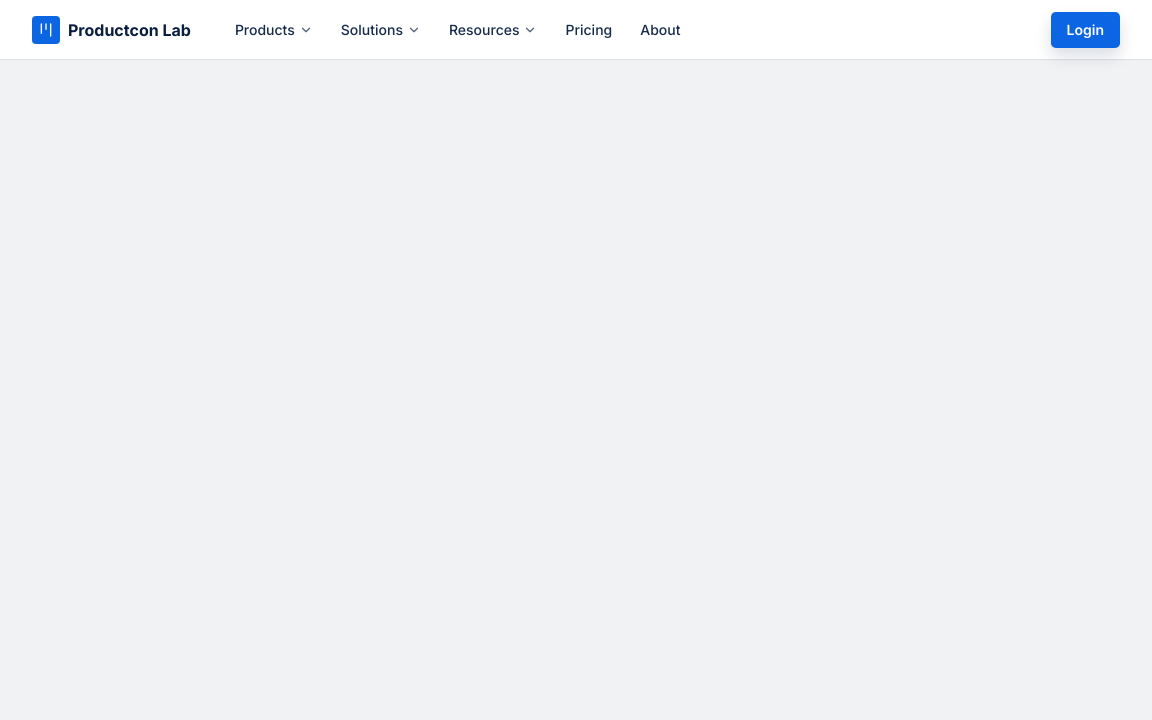
Test: LandingNav › closes dropdown when clicking outside
Click the button "Products" at (274, 30), box [223,12,325,48]
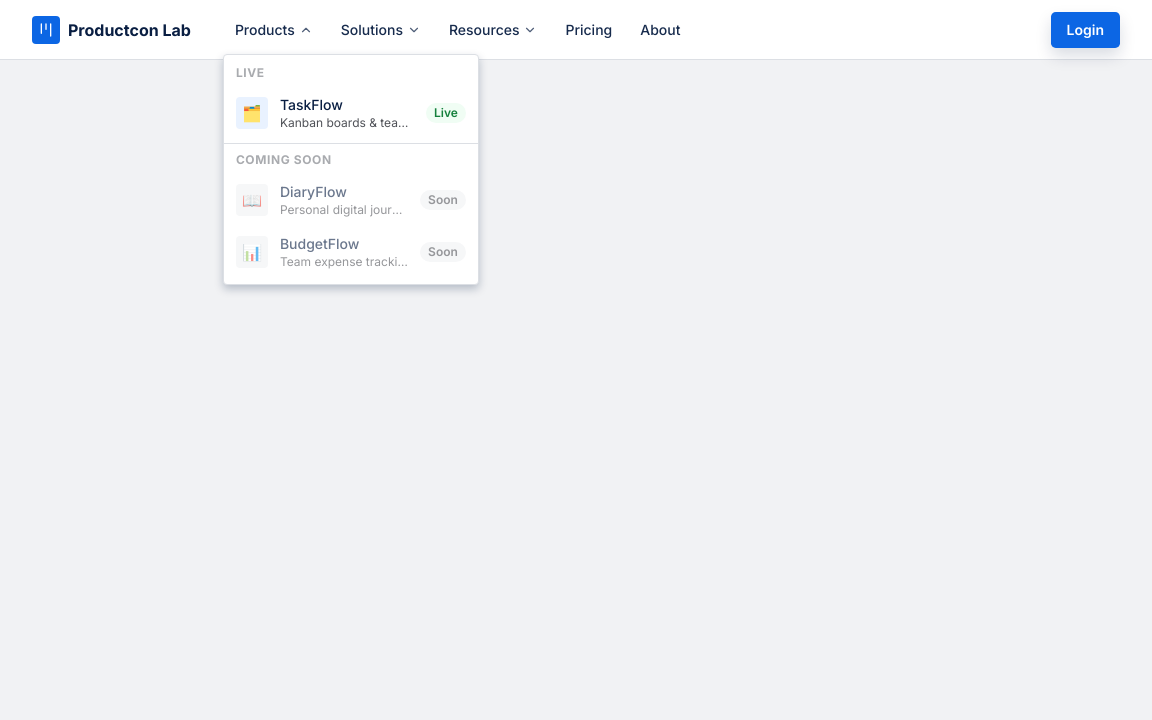
Result: the text "TaskFlow" is shown at [280,96,343,112]
Press the mouse on the element that starts with "Productcon Lab" at (576, 360), box [0,0,1151,719]
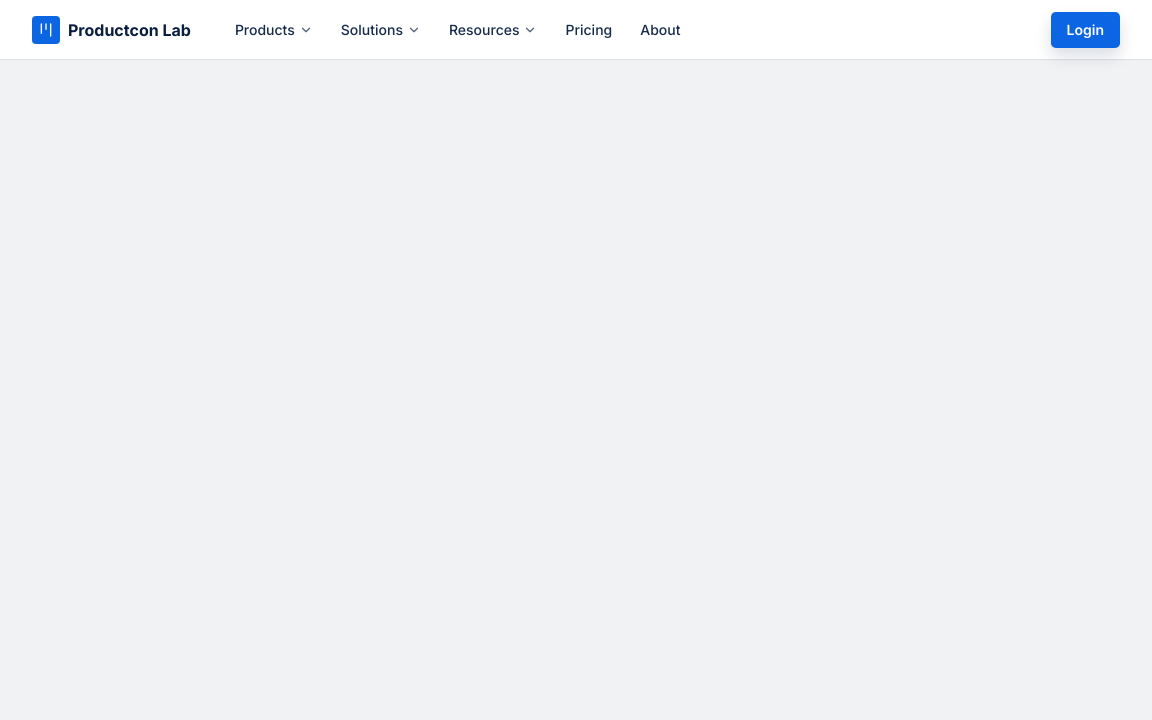
Result: the button "TaskFlow" is gone
